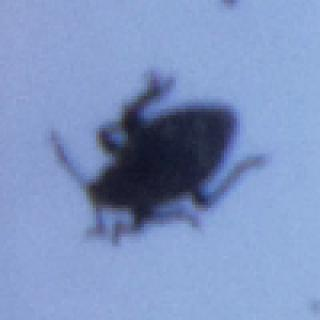bvw: (49, 68, 267, 243)
